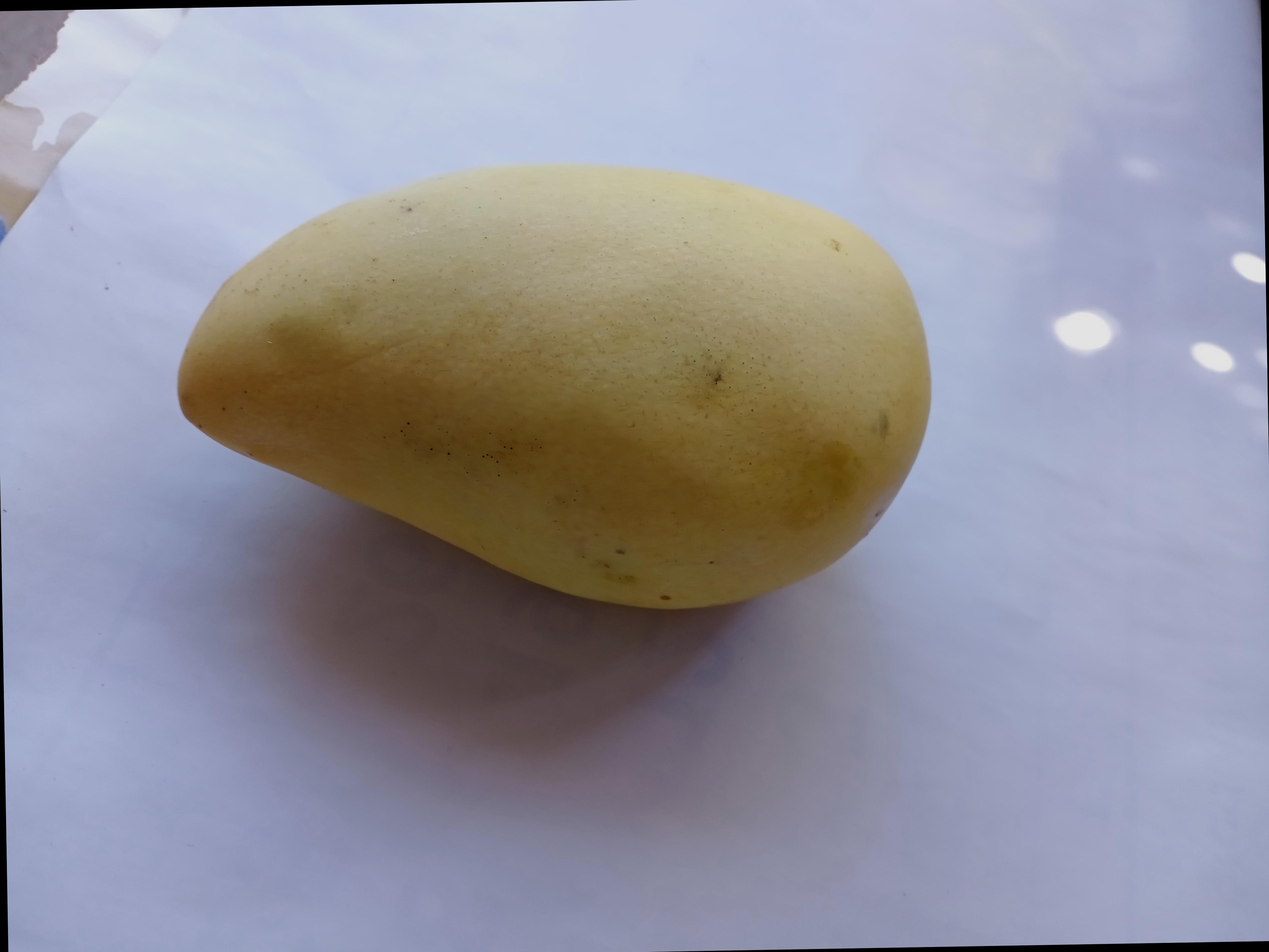Mango Ripe: (130, 160, 965, 667)
